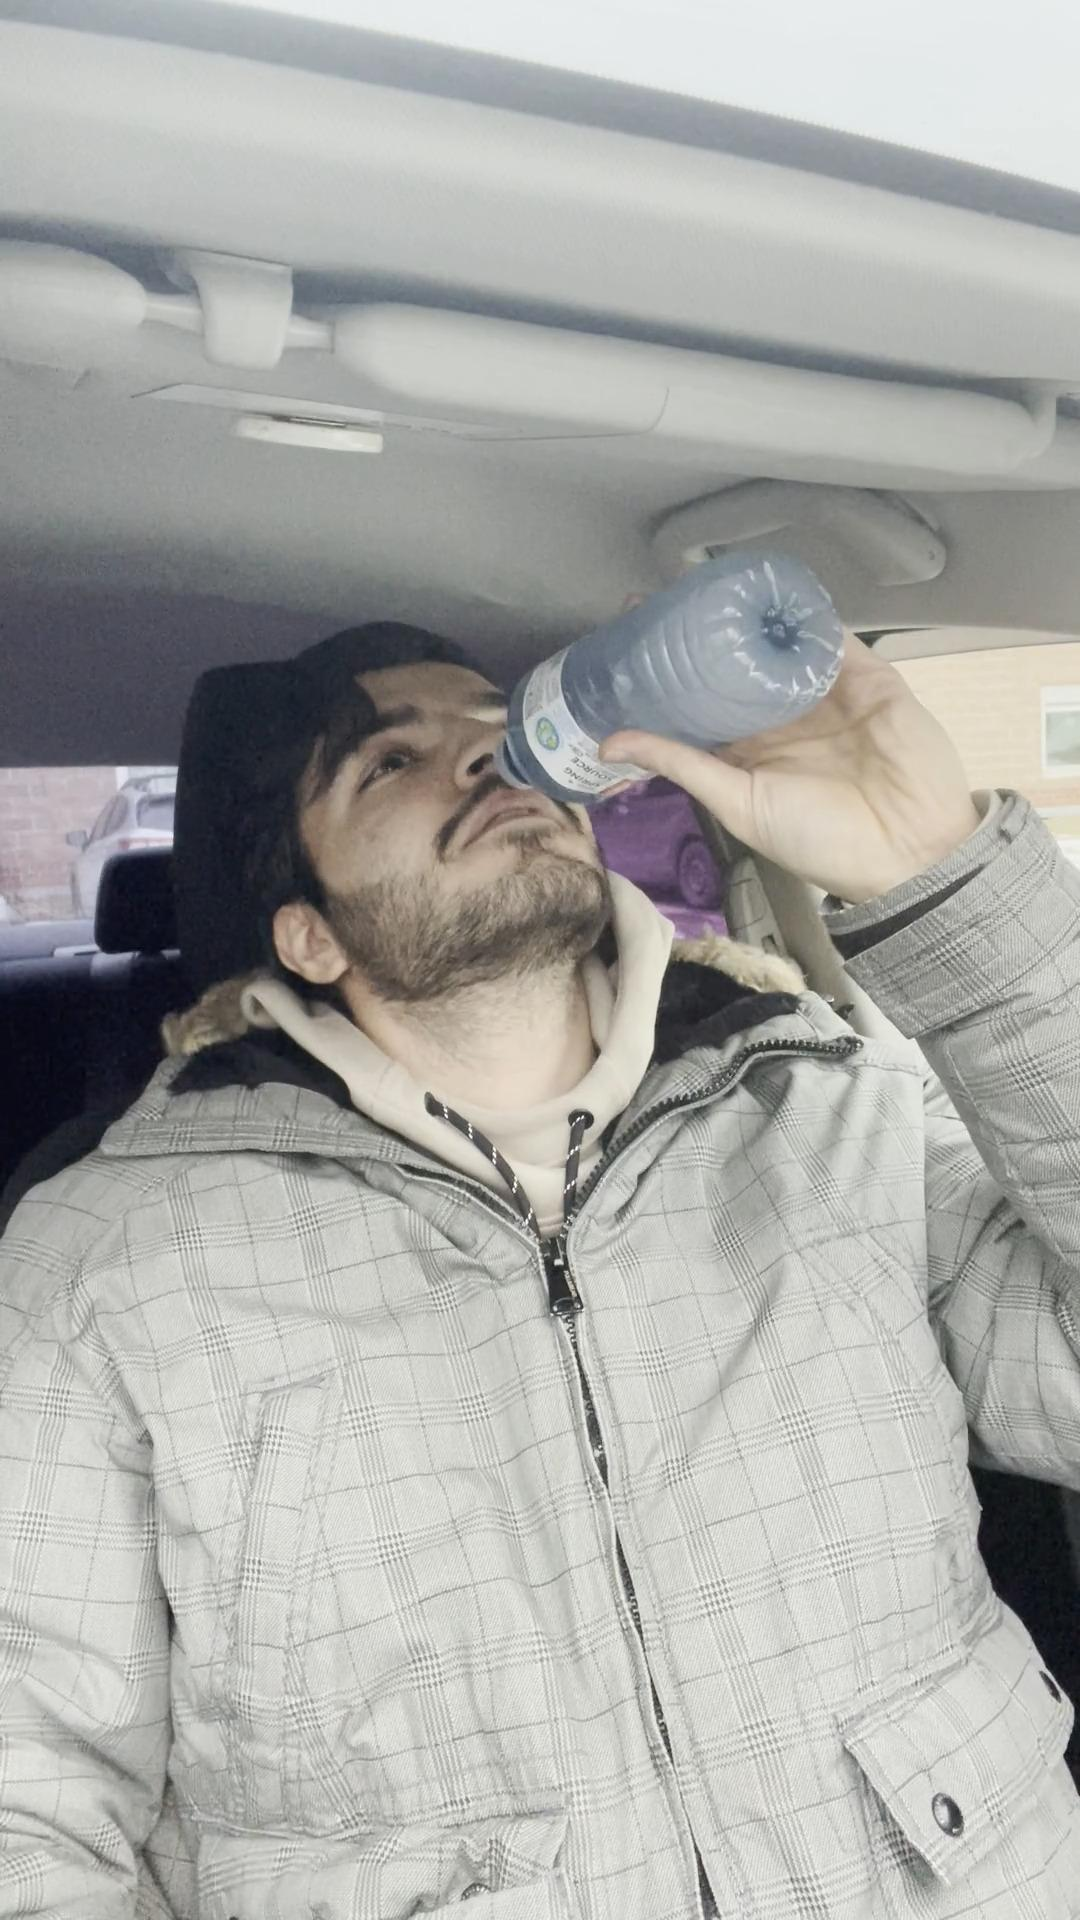drinking: (480, 575, 865, 815)
no_seatbelt: (185, 1035, 1006, 1909)
